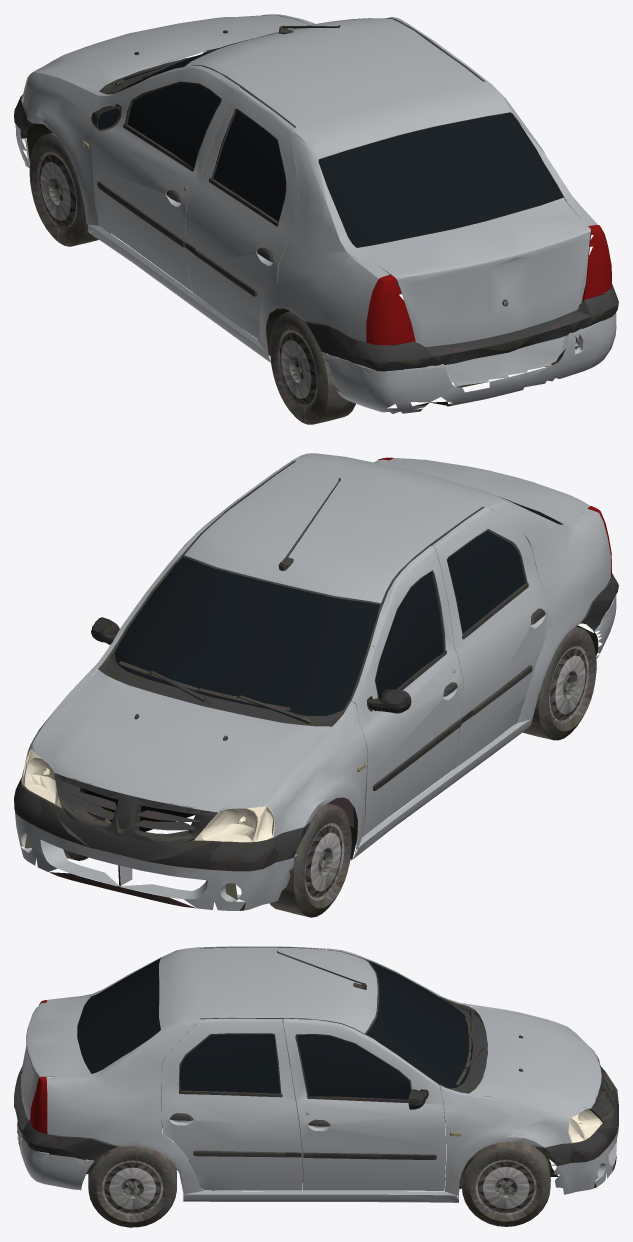
File: sedan_compacto.glb
The picture shows the model from 3 angles, top to bottom: view 1: azimuth 30°, elevation 25°; view 2: azimuth 150°, elevation 25°; view 3: azimuth 270°, elevation 25°; orthographic projection. The views are drawn at different scales.
Visible parts, largest first — view 1: carroceria_pintura, carroceria_vidrio, carroceria_detalle, rueda_tras_izq_detalle, rueda_del_izq_detalle, carroceria_stop; view 2: carroceria_pintura, carroceria_vidrio, carroceria_detalle, rueda_del_izq_detalle, rueda_tras_izq_detalle, carroceria_faro; view 3: carroceria_pintura, carroceria_vidrio, carroceria_detalle, rueda_del_der_detalle, rueda_tras_der_detalle, carroceria_stop, carroceria_faro.
Part boxes in pixels (x1,y1,x2,y2): carroceria_pintura: [15, 14, 616, 413]; carroceria_vidrio: [97, 25, 565, 247]; carroceria_detalle: [14, 18, 618, 411]; rueda_tras_izq_detalle: [270, 311, 355, 424]; rueda_del_izq_detalle: [29, 132, 110, 246]; carroceria_stop: [366, 225, 611, 345]; carroceria_pintura: [14, 453, 616, 910]; carroceria_vidrio: [114, 498, 560, 715]; carroceria_detalle: [14, 461, 618, 910]; rueda_del_izq_detalle: [270, 803, 351, 917]; rueda_tras_izq_detalle: [514, 627, 596, 740]; carroceria_faro: [21, 749, 274, 842]; carroceria_pintura: [17, 946, 618, 1202]; carroceria_vidrio: [77, 958, 472, 1099]; carroceria_detalle: [14, 947, 618, 1199]; rueda_del_der_detalle: [461, 1142, 550, 1226]; rueda_tras_der_detalle: [88, 1146, 176, 1227]; carroceria_stop: [30, 1000, 47, 1133]; carroceria_faro: [568, 1029, 602, 1143].
Bounding box in the file's own units: 1.97 × 1.76 × 4.26.
